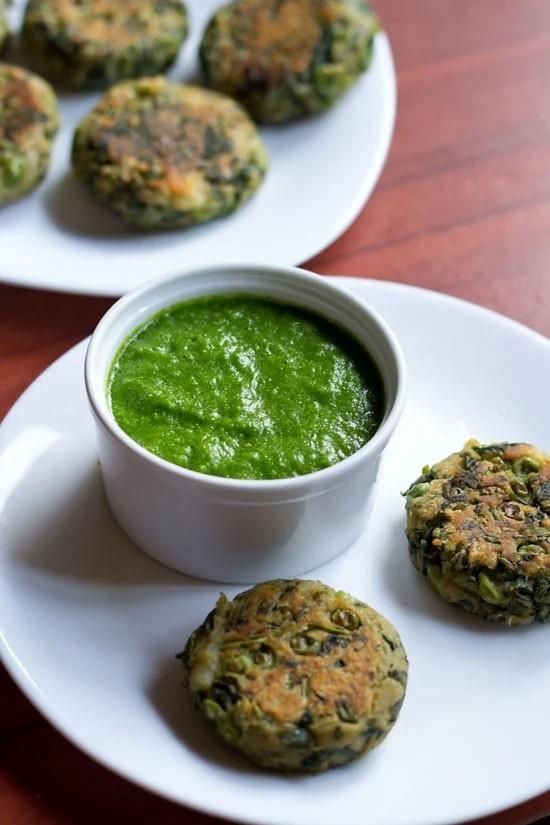GreenChutney: (109, 293, 382, 478)
